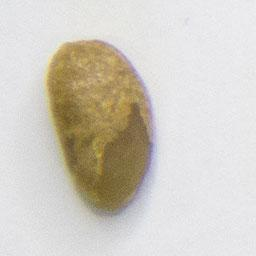longberry: (42, 35, 158, 213)
